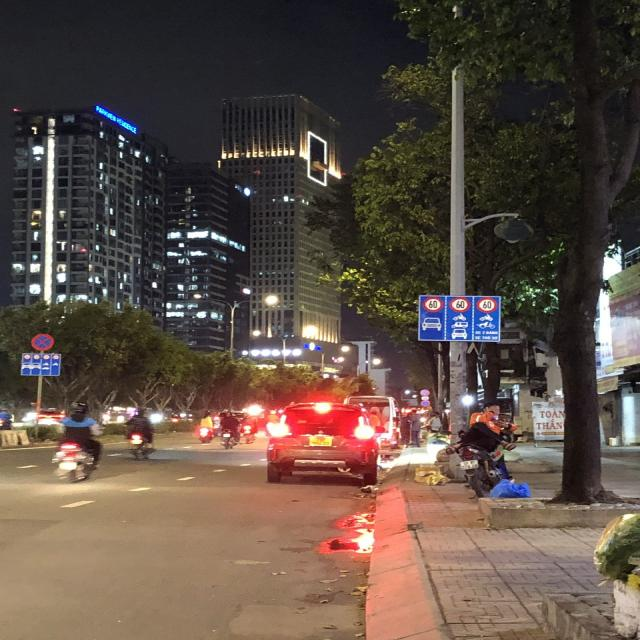Bien bao cam dung xe va do xe: (27, 331, 59, 352)
Bien bao toc do toi da cho phep: (476, 296, 501, 314), (423, 294, 445, 314), (448, 295, 471, 314)
